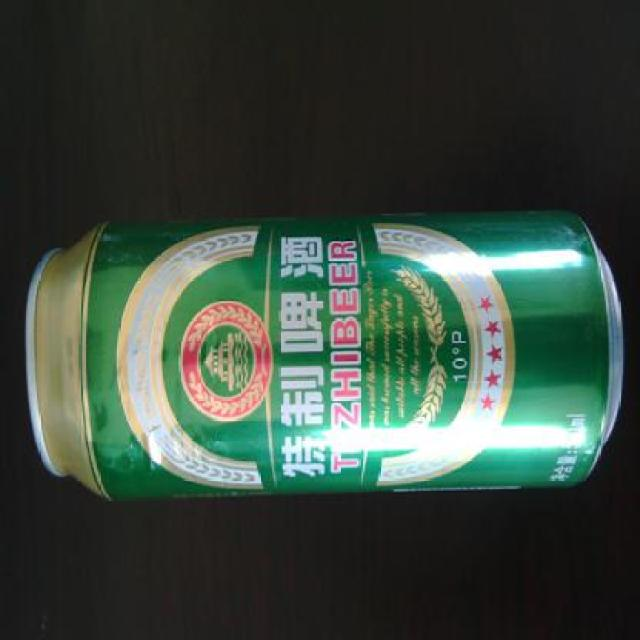Metal: (23, 209, 626, 500)
